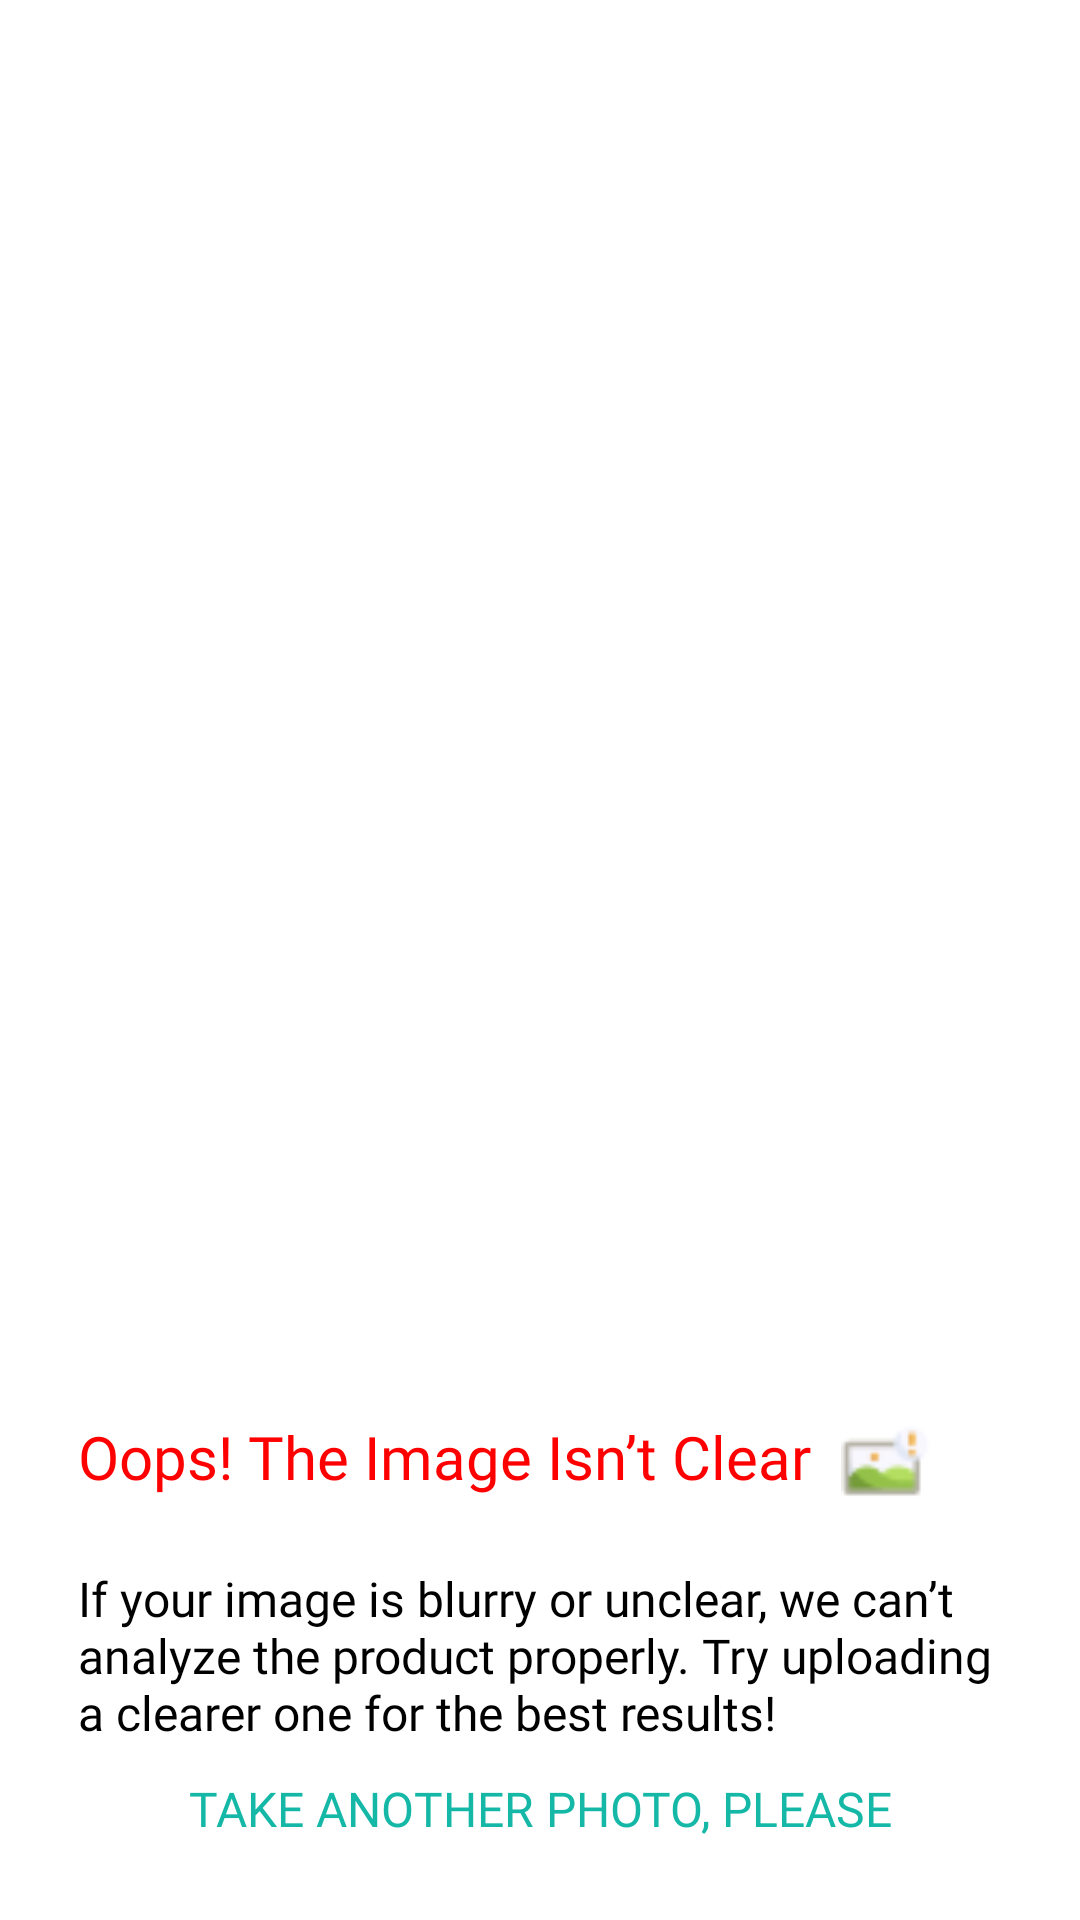

Screen size 1080x1920. Icon name, then its center in pixels as point (x, y):
error picture: point (882, 1463)
